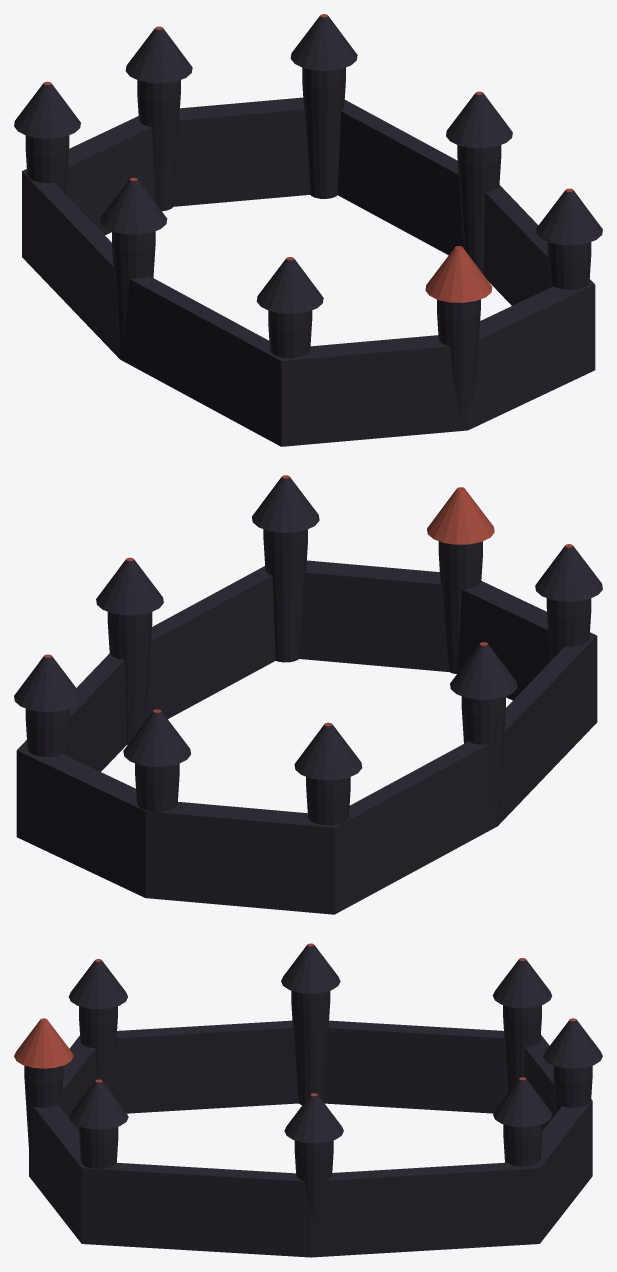
The model's file is ZaMOCK (1).fbx.
3 views of the same model, one above another, from view 1: azimuth 30°, elevation 25°; view 2: azimuth 150°, elevation 25°; view 3: azimuth 270°, elevation 25° (orthographic). The views are drawn at different scales.
Parts seen in each view (by area): view 1: Cube, Cube.006, Cube.016, Cube.008, Cube.012, Cube.002, Cube.004, Cube.010, Cube.014; view 2: Cube, Cube.010, Cube.008, Cube.012, Cube.002, Cube.014, Cube.006, Cube.004, Cube.016; view 3: Cube, Cube.002, Cube.014, Cube.004, Cube.008, Cube.012, Cube.016, Cube.006, Cube.010.
Boxes of the visible parts, bbox=[...] form: Cube: bbox=[22, 97, 595, 446]; Cube.006: bbox=[290, 14, 357, 198]; Cube.016: bbox=[125, 26, 192, 211]; Cube.008: bbox=[446, 91, 512, 273]; Cube.012: bbox=[425, 246, 492, 417]; Cube.002: bbox=[100, 177, 167, 345]; Cube.004: bbox=[14, 81, 80, 194]; Cube.010: bbox=[536, 188, 602, 289]; Cube.014: bbox=[256, 257, 323, 358]; Cube: bbox=[16, 560, 597, 914]; Cube.010: bbox=[252, 475, 319, 662]; Cube.008: bbox=[96, 557, 163, 744]; Cube.012: bbox=[427, 487, 494, 673]; Cube.002: bbox=[450, 642, 517, 812]; Cube.014: bbox=[535, 544, 602, 661]; Cube.006: bbox=[14, 654, 81, 756]; Cube.004: bbox=[294, 722, 362, 825]; Cube.016: bbox=[123, 709, 190, 811]; Cube: bbox=[29, 1020, 592, 1257]; Cube.002: bbox=[281, 943, 340, 1105]; Cube.014: bbox=[68, 959, 127, 1093]; Cube.004: bbox=[492, 958, 552, 1092]; Cube.008: bbox=[284, 1093, 343, 1222]; Cube.012: bbox=[14, 1018, 73, 1158]; Cube.016: bbox=[543, 1018, 602, 1113]; Cube.006: bbox=[493, 1077, 552, 1166]; Cube.010: bbox=[69, 1079, 128, 1168].
Bounding box in the file's own units: 3141 × 1308 × 4468.
